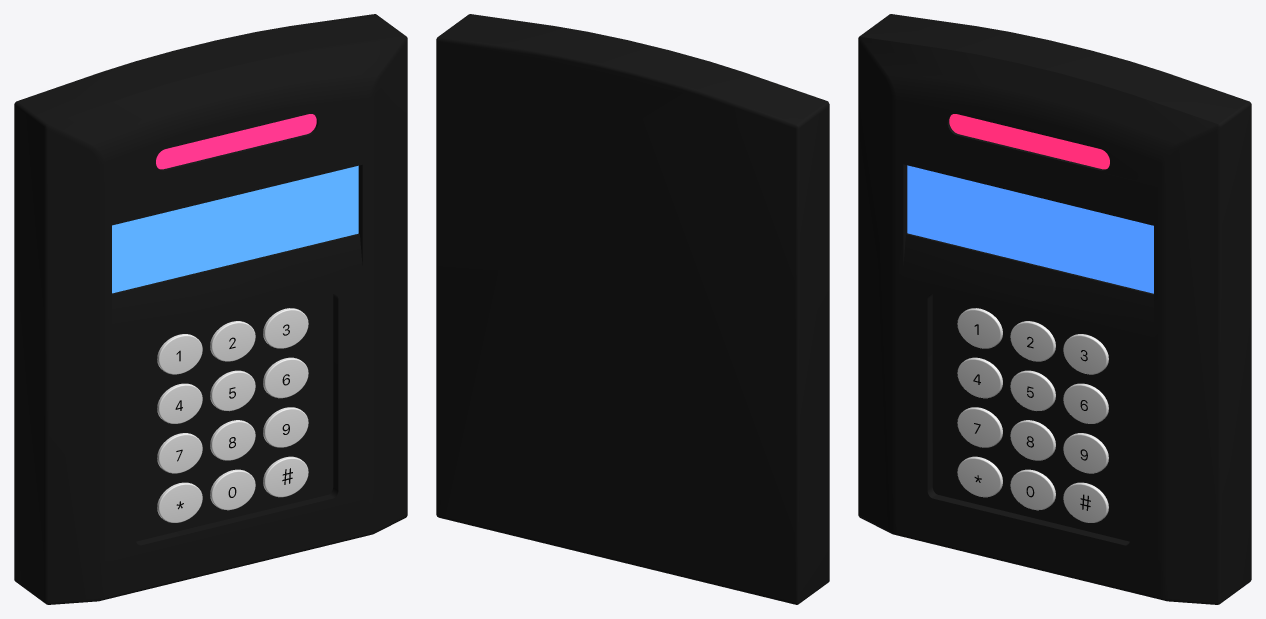
The model's file is Access Control.fbx.
3 views of the same model, side by side, from view 1: azimuth 30°, elevation 25°; view 2: azimuth 150°, elevation 25°; view 3: azimuth 330°, elevation 25° (orthographic).
Parts seen in each view (by area): view 1: 立方体, 按鍵1, 按鍵7, 按鍵2, 按鍵4, 按鍵*, 按鍵3, 按鍵5, 按鍵6, 按鍵8, 按鍵9, 按鍵0 (+1 smaller); view 2: 立方体; view 3: 立方体, 按鍵1, 按鍵*, 按鍵7, 按鍵2, 按鍵4, 按鍵3, 按鍵9, 按鍵5, 按鍵8, 按鍵6, 按鍵0 (+1 smaller).
Boxes of the visible parts, x1=… form: 立方体: x1=14, y1=14, x2=407, y2=604; 按鍵1: x1=157, y1=334, x2=202, y2=374; 按鍵7: x1=157, y1=433, x2=202, y2=473; 按鍵2: x1=210, y1=321, x2=255, y2=361; 按鍵4: x1=157, y1=383, x2=202, y2=423; 按鍵*: x1=157, y1=482, x2=202, y2=522; 按鍵3: x1=263, y1=308, x2=308, y2=348; 按鍵5: x1=210, y1=370, x2=255, y2=411; 按鍵6: x1=263, y1=357, x2=308, y2=398; 按鍵8: x1=210, y1=420, x2=255, y2=460; 按鍵9: x1=263, y1=407, x2=308, y2=447; 按鍵0: x1=210, y1=469, x2=255, y2=510; 立方体: x1=436, y1=14, x2=829, y2=604; 立方体: x1=858, y1=14, x2=1251, y2=604; 按鍵1: x1=957, y1=308, x2=1002, y2=348; 按鍵*: x1=957, y1=456, x2=1002, y2=497; 按鍵7: x1=957, y1=407, x2=1002, y2=447; 按鍵2: x1=1010, y1=321, x2=1055, y2=361; 按鍵4: x1=957, y1=357, x2=1002, y2=398; 按鍵3: x1=1063, y1=334, x2=1108, y2=374; 按鍵9: x1=1063, y1=433, x2=1108, y2=473; 按鍵5: x1=1010, y1=370, x2=1055, y2=410; 按鍵8: x1=1010, y1=420, x2=1055, y2=460; 按鍵6: x1=1063, y1=383, x2=1108, y2=423; 按鍵0: x1=1010, y1=469, x2=1055, y2=510.
Size of the model in its own units: 246 by 319 by 49.77.
